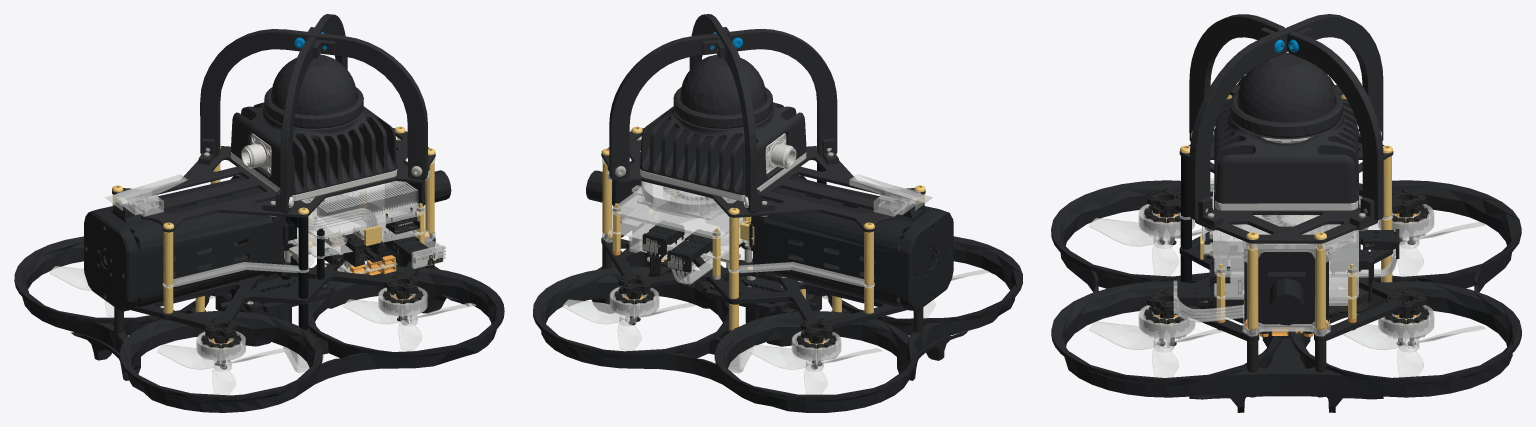
Rendered from sunray150_stl_colored.fbx.
The picture shows the model from 3 angles, left to right: view 1: azimuth 30°, elevation 25°; view 2: azimuth 150°, elevation 25°; view 3: azimuth 270°, elevation 25°; orthographic projection. The views are drawn at different scales.
Visible parts, largest first — view 1: Sunray150_body_carbon_black, Sunray150_body_guard_black, Sunray150_body_translucent_prop, Sunray150_body_gold_standoff, Sunray150_body_camera_glass, Sunray150_body_mid360_silver, Sunray150_body_motor_black, Sunray150_rotor_back_right_translucent, Sunray150_rotor_front_right_translucent, Sunray150_body_metal_screw, Sunray150_rotor_back_left_translucent, Sunray150_body_copper_winding; view 2: Sunray150_body_carbon_black, Sunray150_body_guard_black, Sunray150_body_translucent_prop, Sunray150_body_gold_standoff, Sunray150_body_motor_black, Sunray150_body_mid360_silver, Sunray150_rotor_back_left_translucent, Sunray150_rotor_front_left_translucent, Sunray150_body_metal_screw; view 3: Sunray150_body_carbon_black, Sunray150_body_guard_black, Sunray150_body_translucent_prop, Sunray150_body_motor_black, Sunray150_body_gold_standoff, Sunray150_rotor_front_right_translucent, Sunray150_rotor_back_right_translucent, Sunray150_rotor_front_left_translucent, Sunray150_body_mid360_silver, Sunray150_rotor_back_left_translucent, Sunray150_body_camera_glass, Sunray150_body_metal_screw (+1 smaller).
Part boxes in pixels (box(x1,y1,x2,y2)): Sunray150_body_carbon_black: box(14, 160, 504, 412); Sunray150_body_guard_black: box(112, 14, 435, 232); Sunray150_body_translucent_prop: box(105, 136, 445, 372); Sunray150_body_gold_standoff: box(112, 126, 435, 313); Sunray150_body_camera_glass: box(231, 216, 339, 330); Sunray150_body_mid360_silver: box(205, 133, 397, 207); Sunray150_body_motor_black: box(114, 234, 442, 369); Sunray150_rotor_back_right_translucent: box(157, 344, 289, 395); Sunray150_rotor_front_right_translucent: box(343, 299, 475, 351); Sunray150_body_metal_screw: box(132, 152, 442, 304); Sunray150_rotor_back_left_translucent: box(49, 266, 124, 317); Sunray150_body_copper_winding: box(211, 232, 440, 348); Sunray150_body_carbon_black: box(533, 160, 1022, 412); Sunray150_body_guard_black: box(601, 14, 925, 232); Sunray150_body_translucent_prop: box(602, 136, 932, 373); Sunray150_body_gold_standoff: box(601, 126, 925, 330); Sunray150_body_motor_black: box(602, 223, 923, 369); Sunray150_body_mid360_silver: box(640, 133, 831, 207); Sunray150_rotor_back_left_translucent: box(749, 345, 881, 394); Sunray150_rotor_front_left_translucent: box(562, 299, 695, 350); Sunray150_body_metal_screw: box(608, 152, 905, 288); Sunray150_body_carbon_black: box(1051, 76, 1521, 412); Sunray150_body_guard_black: box(1179, 14, 1393, 243); Sunray150_body_translucent_prop: box(1138, 52, 1434, 339); Sunray150_body_motor_black: box(1144, 188, 1428, 397); Sunray150_body_gold_standoff: box(1180, 86, 1392, 329); Sunray150_rotor_front_right_translucent: box(1089, 321, 1223, 377); Sunray150_rotor_back_right_translucent: box(1089, 218, 1208, 276); Sunray150_rotor_front_left_translucent: box(1343, 324, 1485, 377); Sunray150_body_mid360_silver: box(1191, 131, 1381, 210); Sunray150_rotor_back_left_translucent: box(1367, 222, 1485, 276); Sunray150_body_camera_glass: box(1180, 156, 1191, 282); Sunray150_body_metal_screw: box(1200, 131, 1389, 302).
Bounding box in the file's own units: 25.36 × 19.12 × 24.99.
